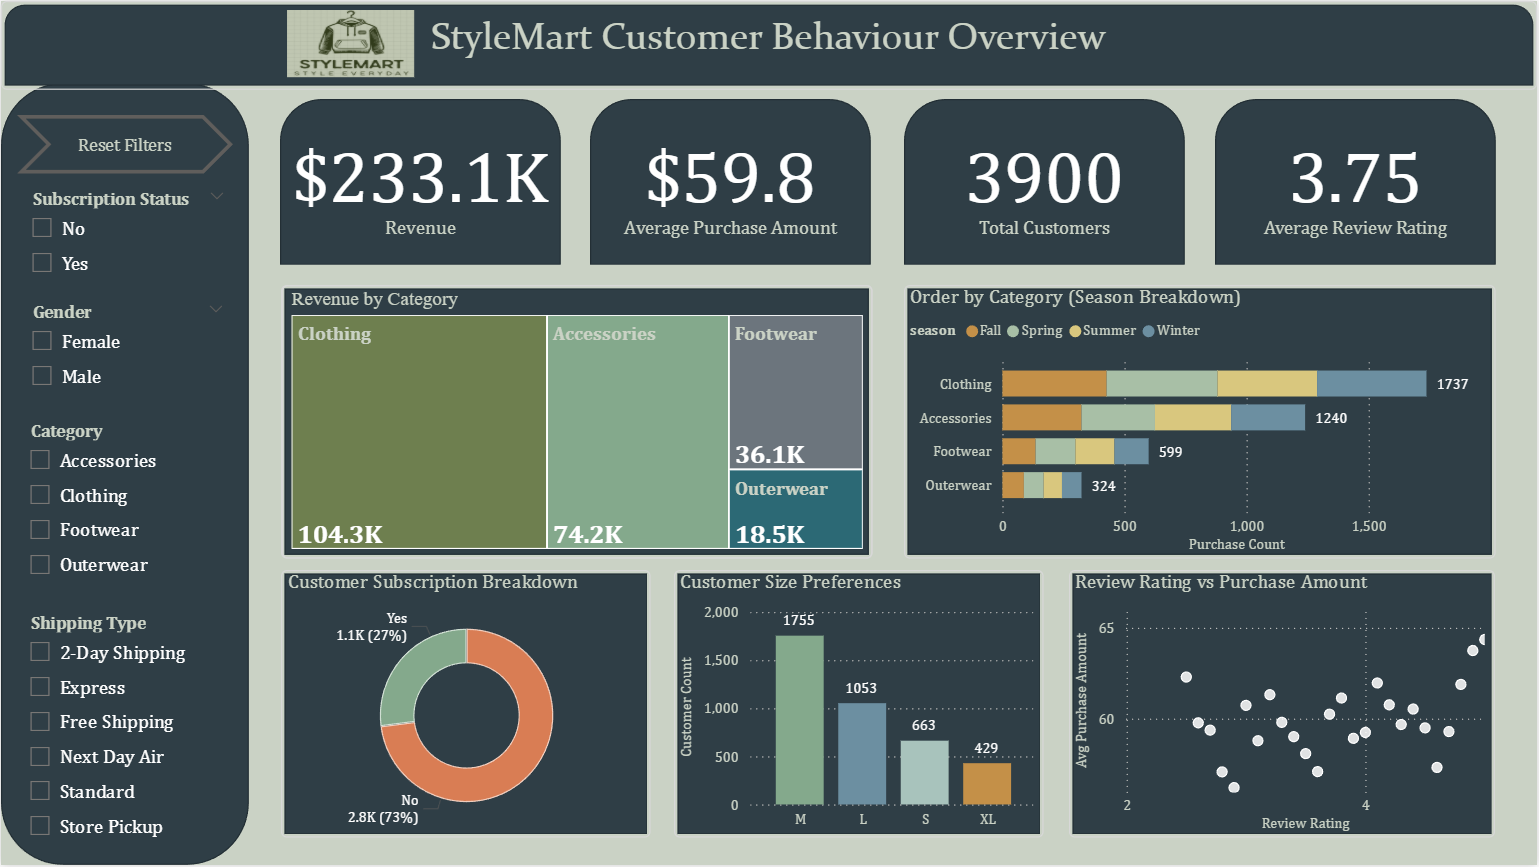

The dashboard page shown, as its layout file describes it:
{"tool":"powerbi","page":{"name":"Customer Behaviour Overview","canvas":[1280,720],"ordinal":0},"visuals":[{"type":"shape","box":[0,68.3,206.5,651.5],"z":0},{"type":"shape","box":[0,0,1280,73.6],"z":1000},{"type":"textbox","box":[349.3,5.3,580.6,62.9],"z":2000},{"type":"image","box":[233.1,2.7,116.1,65.6],"z":3000},{"type":"shape","box":[232.2,81.6,234,138.3],"z":4000},{"type":"shape","box":[491.1,81.6,234,138.3],"z":5000},{"type":"shape","box":[752.6,81.6,234,138.3],"z":6000},{"type":"shape","box":[1011.4,81.6,234,138.3],"z":7000},{"type":"shape","box":[233.1,236.7,492.9,227.8],"z":8000},{"type":"shape","box":[752.6,236.7,492.9,227.8],"z":9000},{"type":"shape","box":[233.1,474.2,308.5,223.4],"z":10000},{"type":"shape","box":[561.1,474.2,308.5,223.4],"z":11000},{"type":"shape","box":[890,474.2,355.5,223.4],"z":12000},{"type":"card","fields":{"Values":["customer.Average Purchase Amount"]},"box":[491.1,81.6,234,138.3],"z":13000},{"type":"card","fields":{"Values":["customer.Average Review Rating"]},"box":[1011.4,81.6,234,138.3],"z":14000},{"type":"card","fields":{"Values":["customer.Total Customers"]},"box":[752.6,81.6,234,138.3],"z":15000},{"type":"card","fields":{"Values":["Sum(customer.purchase_amount)"]},"box":[232.2,81.6,234,138.3],"z":16000},{"type":"barChart","title":"Order by Category (Season Breakdown)","fields":{"Category":["customer.category"],"Y":["CountNonNull(customer.item_purchased)"],"Series":["customer.season"]},"box":[752.6,236.7,492.9,227.8],"z":17000},{"type":"treemap","title":"Revenue by Category","fields":{"Group":["customer.category"],"Values":["Sum(customer.purchase_amount)"]},"box":[234,236.7,492,227.8],"z":18000},{"type":"scatterChart","title":"Review Rating vs Purchase Amount","fields":{"X":["customer.review_rating"],"Y":["customer.Average Purchase Amount"]},"box":[890,474.2,355.5,223.4],"z":19000},{"type":"donutChart","title":"Customer Subscription Breakdown","fields":{"Y":["customer.Total Customers"],"Category":["customer.subscription_status"]},"box":[234,474.2,307.6,223.4],"z":20000},{"type":"columnChart","title":"Customer Size Preferences","fields":{"Category":["customer.size"],"Y":["CountNonNull(customer.item_purchased)"]},"box":[561.1,474.2,308.5,223.4],"z":21000},{"type":"slicer","fields":{"Values":["customer.subscription_status"]},"box":[13.3,150.7,185.3,95.7],"z":22000},{"type":"slicer","fields":{"Values":["customer.gender"]},"box":[13.3,244.7,184.4,93.1],"z":23000},{"type":"slicer","fields":{"Values":["customer.category"]},"box":[11.5,343.9,179.1,149.8],"z":24000},{"type":"slicer","fields":{"Values":["customer.shipping_type"]},"box":[11.5,504.4,184.4,215.4],"z":25000},{"type":"actionButton","box":[13.3,94.8,179.9,48.8],"z":25001}]}

Visuals, with their boxes in screenshot pixels (x1, y1, x2, y2), scaled from the page's 1280x720 canvas onto the 1539x867 screenshot:
shape: [left=0, top=82, right=248, bottom=866]
shape: [left=0, top=0, right=1538, bottom=89]
textbox: [left=420, top=6, right=1118, bottom=82]
image: [left=280, top=3, right=420, bottom=82]
shape: [left=279, top=98, right=561, bottom=265]
shape: [left=590, top=98, right=872, bottom=265]
shape: [left=905, top=98, right=1186, bottom=265]
shape: [left=1216, top=98, right=1497, bottom=265]
shape: [left=280, top=285, right=873, bottom=559]
shape: [left=905, top=285, right=1498, bottom=559]
shape: [left=280, top=571, right=651, bottom=840]
shape: [left=675, top=571, right=1046, bottom=840]
shape: [left=1070, top=571, right=1498, bottom=840]
card - customer.Average Purchase Amount: [left=590, top=98, right=872, bottom=265]
card - customer.Average Review Rating: [left=1216, top=98, right=1497, bottom=265]
card - customer.Total Customers: [left=905, top=98, right=1186, bottom=265]
card - Sum(customer.purchase_amount): [left=279, top=98, right=561, bottom=265]
"Order by Category (Season Breakdown)" barChart: [left=905, top=285, right=1498, bottom=559]
"Revenue by Category" treemap: [left=281, top=285, right=873, bottom=559]
"Review Rating vs Purchase Amount" scatterChart: [left=1070, top=571, right=1498, bottom=840]
"Customer Subscription Breakdown" donutChart: [left=281, top=571, right=651, bottom=840]
"Customer Size Preferences" columnChart: [left=675, top=571, right=1046, bottom=840]
slicer - customer.subscription_status: [left=16, top=181, right=239, bottom=297]
slicer - customer.gender: [left=16, top=295, right=238, bottom=407]
slicer - customer.category: [left=14, top=414, right=229, bottom=594]
slicer - customer.shipping_type: [left=14, top=607, right=236, bottom=866]
actionButton: [left=16, top=114, right=232, bottom=173]
